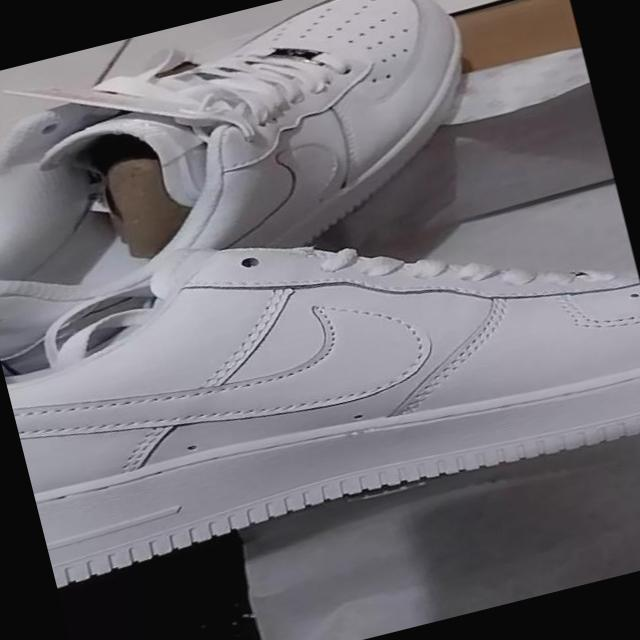nike_fake_airforce: (0, 153, 640, 586), (0, 0, 507, 322)
